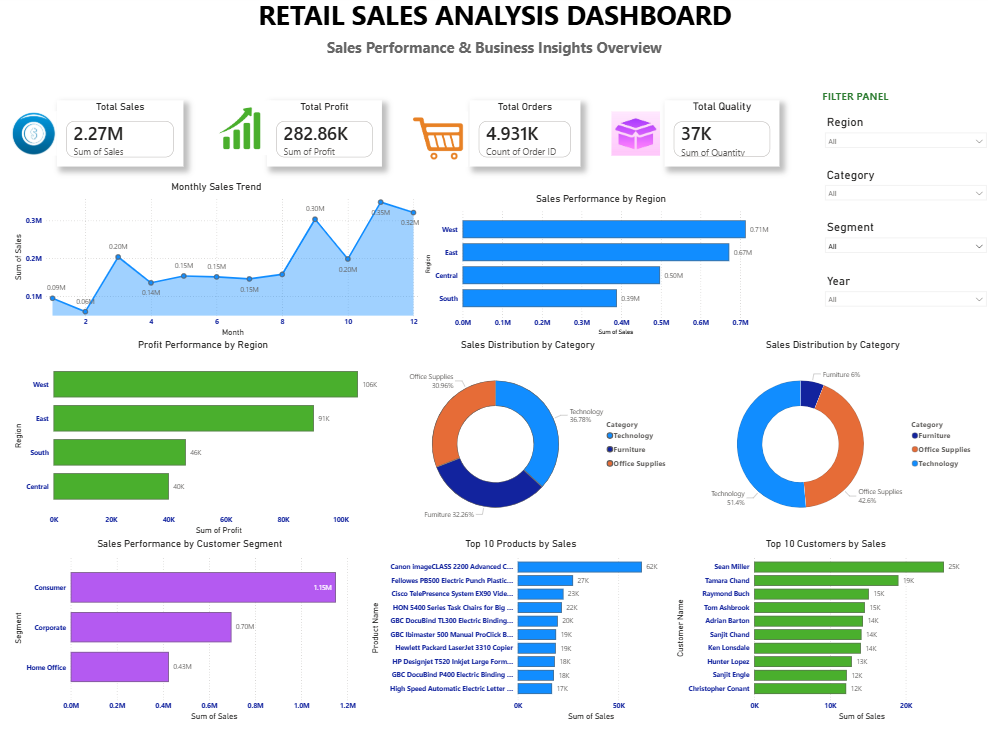

What the dashboard file says about the page in this screenshot:
{"tool":"powerbi","page":{"name":"Page 1","canvas":[1800,1350],"ordinal":0},"visuals":[{"type":"cardVisual","title":"Total Sales","fields":{"Data":["Sum(retail_sales cleaned_retail_data.Sales)"]},"box":[107.2,192,228.8,120],"z":0,"group":"g1"},{"type":"lineChart","title":"Monthly Sales Trend","fields":{"Y":["Sum(retail_sales cleaned_retail_data.Sales)"],"Category":["retail_sales cleaned_retail_data.Month"]},"box":[24,336,744,288],"z":0},{"type":"cardVisual","title":"Total Profit","fields":{"Data":["Sum(retail_sales cleaned_retail_data.Profit)"]},"box":[488,192,208,120],"z":1000,"group":"g2"},{"type":"clusteredBarChart","title":"Sales Performance by Region","fields":{"Y":["Sum(retail_sales cleaned_retail_data.Sales)"],"Category":["retail_sales cleaned_retail_data.Region"]},"box":[768,360,648,264],"z":1000},{"type":"cardVisual","title":"Total Orders","fields":{"Data":["Count(retail_sales cleaned_retail_data.Order ID)"]},"box":[855.4,192,200.6,120],"z":2000,"group":"g3"},{"type":"barChart","title":"Profit Performance by Region","fields":{"Category":["retail_sales cleaned_retail_data.Region"],"Y":["Sum(retail_sales cleaned_retail_data.Profit)"]},"box":[24,624,696,360],"z":2000},{"type":"donutChart","title":"Sales Distribution by Category","fields":{"Category":["retail_sales cleaned_retail_data.Category"],"Y":["Sum(retail_sales cleaned_retail_data.Sales)"]},"box":[696,624,528,360],"z":3000},{"type":"donutChart","title":"Sales Distribution by Category","fields":{"Y":["Sum(retail_sales cleaned_retail_data.Profit)"],"Series":["retail_sales cleaned_retail_data.Category"]},"box":[1248,624,528,360],"z":4000},{"type":"clusteredBarChart","title":"Sales Performance by Customer Segment","fields":{"Category":["retail_sales cleaned_retail_data.Segment"],"Y":["Sum(retail_sales cleaned_retail_data.Sales)"]},"box":[24,984,648,336],"z":5000},{"type":"clusteredBarChart","title":"Top 10 Products by Sales","fields":{"Category":["retail_sales cleaned_retail_data.Product Name"],"Y":["Sum(retail_sales cleaned_retail_data.Sales)"]},"box":[672,984,552,336],"z":6000},{"type":"clusteredBarChart","title":"Top 10 Customers by Sales","fields":{"Category":["retail_sales cleaned_retail_data.Customer Name"],"Y":["Sum(retail_sales cleaned_retail_data.Sales)"]},"box":[1224,984,552,336],"z":7000},{"type":"textbox","box":[456,0,888,96],"z":8000},{"type":"slicer","title":"Filter by Region","fields":{"Values":["retail_sales cleaned_retail_data.Region"]},"box":[1488,216,312,96],"z":8000,"group":"g5"},{"type":"textbox","box":[552,72,696,48],"z":9000},{"type":"slicer","title":"Filter by Category","fields":{"Values":["retail_sales cleaned_retail_data.Category"]},"box":[1488,312,312,96],"z":9000,"group":"g6"},{"type":"group","id":"g1","title":"Group 2","box":[24,192,312,120],"z":10000},{"type":"slicer","title":"Filter by Segment","fields":{"Values":["retail_sales cleaned_retail_data.Segment"]},"box":[1488,408,312,96],"z":10000,"group":"g6"},{"type":"group","id":"g2","title":"Group 3","box":[384,192,312,120],"z":11000},{"type":"slicer","title":"Filter by Year","fields":{"Values":["retail_sales cleaned_retail_data.Year"]},"box":[1488,504,312,96],"z":11000,"group":"g6"},{"type":"group","id":"g3","title":"Group 4","box":[744,192,312,120],"z":12000},{"type":"group","id":"g4","title":"Group 5","box":[1104,192,312,120],"z":13000},{"type":"textbox","box":[1488,168,216,48],"z":14000},{"type":"group","id":"g5","title":"Group 7","box":[1488,216,312,384],"z":15000},{"type":"cardVisual","title":"Total Quality","fields":{"Data":["Sum(retail_sales cleaned_retail_data.Quantity)"]},"box":[1208,192,208,120],"z":16000,"group":"g4"},{"type":"group","id":"g6","title":"Group 6","box":[1488,312,312,288],"z":19501,"group":"g5"},{"type":"image","box":[24,192,83.2,120],"z":23002,"group":"g7"},{"type":"group","id":"g7","title":"Group 1","box":[24,192,83.2,120],"z":24000,"group":"g1"},{"type":"image","box":[384,192,111.4,100],"z":24002,"group":"g2"},{"type":"image","box":[744,212,111.4,100],"z":24004,"group":"g3"},{"type":"image","box":[1104,212,104,80],"z":24006,"group":"g4"}]}

Visuals, with their boxes in screenshot pixels (x1, y1, x2, y2), scaled from the page's 1800x1350 canvas onto the 988x735 screenshot:
"Total Sales" cardVisual: [left=59, top=105, right=184, bottom=170]
"Monthly Sales Trend" lineChart: [left=13, top=183, right=422, bottom=340]
"Total Profit" cardVisual: [left=268, top=105, right=382, bottom=170]
"Sales Performance by Region" clusteredBarChart: [left=422, top=196, right=777, bottom=340]
"Total Orders" cardVisual: [left=470, top=105, right=580, bottom=170]
"Profit Performance by Region" barChart: [left=13, top=340, right=395, bottom=536]
"Sales Distribution by Category" donutChart: [left=382, top=340, right=672, bottom=536]
"Sales Distribution by Category" donutChart: [left=685, top=340, right=975, bottom=536]
"Sales Performance by Customer Segment" clusteredBarChart: [left=13, top=536, right=369, bottom=719]
"Top 10 Products by Sales" clusteredBarChart: [left=369, top=536, right=672, bottom=719]
"Top 10 Customers by Sales" clusteredBarChart: [left=672, top=536, right=975, bottom=719]
textbox: [left=250, top=0, right=738, bottom=52]
"Filter by Region" slicer: [left=817, top=118, right=987, bottom=170]
textbox: [left=303, top=39, right=685, bottom=65]
"Filter by Category" slicer: [left=817, top=170, right=987, bottom=222]
"Group 2" group: [left=13, top=105, right=184, bottom=170]
"Filter by Segment" slicer: [left=817, top=222, right=987, bottom=274]
"Group 3" group: [left=211, top=105, right=382, bottom=170]
"Filter by Year" slicer: [left=817, top=274, right=987, bottom=327]
"Group 4" group: [left=408, top=105, right=580, bottom=170]
"Group 5" group: [left=606, top=105, right=777, bottom=170]
textbox: [left=817, top=91, right=935, bottom=118]
"Group 7" group: [left=817, top=118, right=987, bottom=327]
"Total Quality" cardVisual: [left=663, top=105, right=777, bottom=170]
"Group 6" group: [left=817, top=170, right=987, bottom=327]
image: [left=13, top=105, right=59, bottom=170]
"Group 1" group: [left=13, top=105, right=59, bottom=170]
image: [left=211, top=105, right=272, bottom=159]
image: [left=408, top=115, right=470, bottom=170]
image: [left=606, top=115, right=663, bottom=159]
